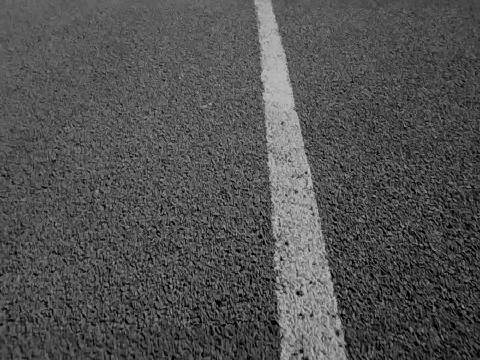Lines: (253, 0, 348, 360)
